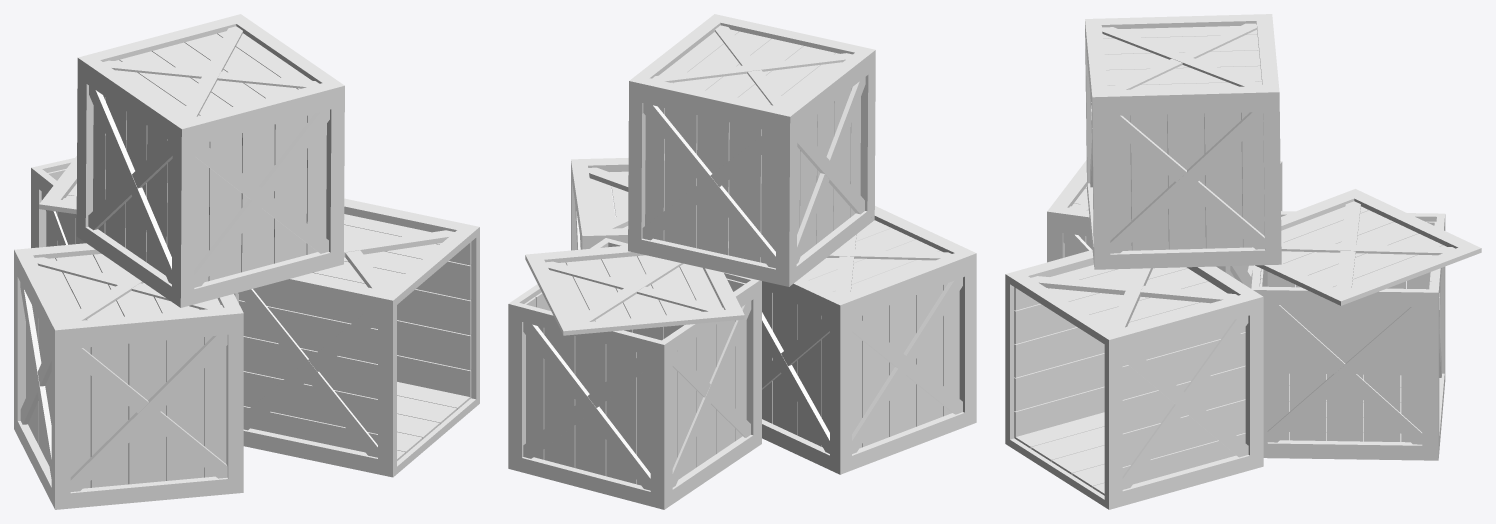
Rendered from Prop_Crate_Box_Pile_02.glb.
The picture shows the model from 3 angles, left to right: view 1: azimuth 30°, elevation 25°; view 2: azimuth 150°, elevation 25°; view 3: azimuth 270°, elevation 25°; orthographic projection. The views are drawn at different scales.
Parts seen in each view (by area): view 1: Prop_Crate_Box_Pile_02; view 2: Prop_Crate_Box_Pile_02; view 3: Prop_Crate_Box_Pile_02.
Part boxes in pixels (x1,y1,x2,y2): Prop_Crate_Box_Pile_02: [14, 14, 479, 509]; Prop_Crate_Box_Pile_02: [508, 14, 976, 509]; Prop_Crate_Box_Pile_02: [1005, 14, 1481, 509].
Bounding box in the file's own units: 1.92 × 1.55 × 1.93.
1 material, 1 textured.
